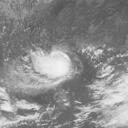cyclone: (38, 48, 74, 82)
